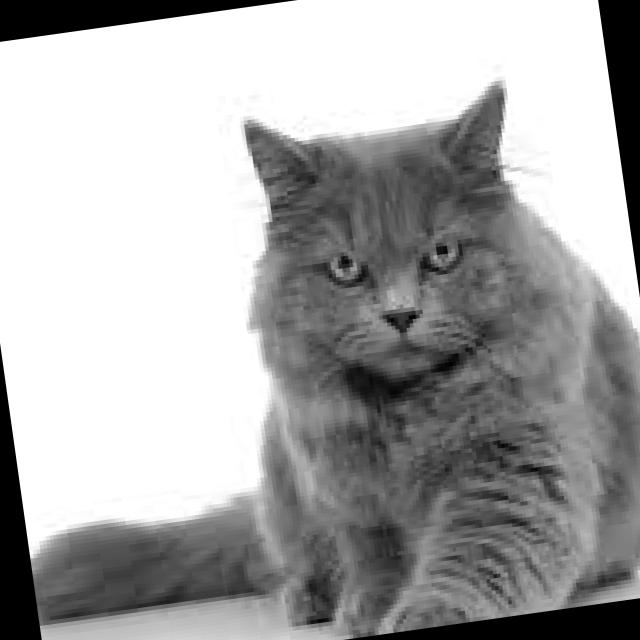british: (224, 54, 552, 418)
